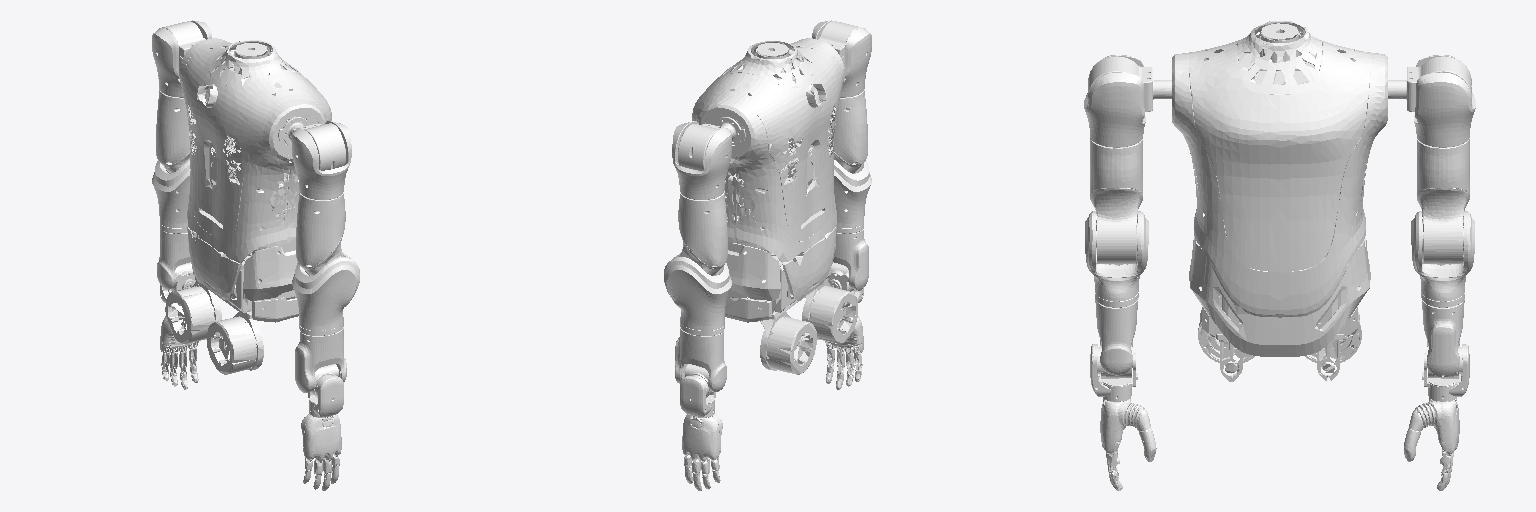
robot.urdf — biped_s46:
<?xml version='1.0' encoding='utf-8'?>
<robot name="biped_s46">
  <mujoco>
    <compiler meshdir="../meshes/" balanceinertia="true" discardvisual="false" />
  </mujoco>
  <link name="base_link">
    <inertial>
      <origin xyz="-0.00761 0.00182 0.21995" rpy="0 0 0" />
      <mass value="26.8206" />
      <inertia ixx="0.93103133" ixy="0.00011763" ixz="-0.07210993" iyy="0.82590532" iyz="6.88e-06" izz="0.27686612" />
    </inertial>
    <visual>
      <origin xyz="0 0 0" rpy="0 0 0" />
      <geometry>
        <mesh filename="../../meshes/torso.STL" />
      </geometry>
      <material name="">
        <color rgba="1 1 1 1" />
      </material>
    </visual>
  </link>
  <link name="zarm_l1_link">
    <inertial>
      <origin xyz="-0.00083 -0.02218 0.00035" rpy="0 0 0" />
      <mass value="0.962" />
      <inertia ixx="0.00225" ixy="-3e-05" ixz="0.0" iyy="0.00099" iyz="-2e-05" izz="0.00227" />
    </inertial>
    <visual>
      <origin xyz="0 0 0" rpy="0 0 0" />
      <geometry>
        <mesh filename="../../meshes/l_arm_pitch.STL" />
      </geometry>
      <material name="">
        <color rgba="1 1 1 1" />
      </material>
    </visual>
  </link>
  <joint name="zarm_l1_joint" type="revolute">
    <origin xyz="-0.017499853 0.29269999999999996 0.445" rpy="0 0 0" />
    <parent link="base_link" />
    <child link="zarm_l1_link" />
    <axis xyz="0 1 0" />
    <limit lower="-3.14159265358979" upper="1.5707963267949" effort="100.0" velocity="41.3433333333333" />
    <dynamic damping="0.2" friction="0.0" />
  </joint>
  <link name="zarm_l2_link">
    <inertial>
      <origin xyz="-0.00791 0.0 -0.04655" rpy="0 0 0" />
      <mass value="0.57" />
      <inertia ixx="0.00163" ixy="0.0" ixz="5e-05" iyy="0.00211" iyz="0.0" izz="0.00122" />
    </inertial>
    <visual>
      <origin xyz="0 0 0" rpy="0 0 0" />
      <geometry>
        <mesh filename="../../meshes/l_arm_roll.STL" />
      </geometry>
      <material name="">
        <color rgba="1 1 1 1" />
      </material>
    </visual>
  </link>
  <joint name="zarm_l2_joint" type="revolute">
    <origin xyz="0 0 0" rpy="0 0 0" />
    <parent link="zarm_l1_link" />
    <child link="zarm_l2_link" />
    <axis xyz="1 0 0" />
    <limit lower="-0.349065850398866" upper="2.0943951023932" effort="50.0" velocity="8.37333333333333" />
    <dynamic damping="0.2" friction="0.0" />
  </joint>
  <link name="zarm_l3_link">
    <inertial>
      <origin xyz="0.00628 0.00107 -0.20878" rpy="0 0 0" />
      <mass value="1.65" />
      <inertia ixx="0.00815" ixy="-4e-05" ixz="0.00085" iyy="0.00828" iyz="0.00014" izz="0.00206" />
    </inertial>
    <visual>
      <origin xyz="0 0 0" rpy="0 0 0" />
      <geometry>
        <mesh filename="../../meshes/l_arm_yaw.STL" />
      </geometry>
      <material name="">
        <color rgba="1 1 1 1" />
      </material>
    </visual>
  </link>
  <joint name="zarm_l3_joint" type="revolute">
    <origin xyz="0 0 0" rpy="0 0 0" />
    <parent link="zarm_l2_link" />
    <child link="zarm_l3_link" />
    <axis xyz="0 0 1" />
    <limit lower="-1.5707963267949" upper="1.5707963267949" effort="39.0" velocity="19.3633333333333" />
    <dynamic damping="0.2" friction="0.0" />
  </joint>
  <link name="zarm_l4_link">
    <inertial>
      <origin xyz="-0.01611 0.00143 -0.04857" rpy="0 0 0" />
      <mass value="0.429" />
      <inertia ixx="0.00135" ixy="0.0" ixz="-0.0001" iyy="0.00114" iyz="0.0" izz="0.00083" />
    </inertial>
    <visual>
      <origin xyz="0 0 0" rpy="0 0 0" />
      <geometry>
        <mesh filename="../../meshes/l_forearm.STL" />
      </geometry>
      <material name="">
        <color rgba="1 1 1 1" />
      </material>
    </visual>
  </link>
  <joint name="zarm_l4_joint" type="revolute">
    <origin xyz="0.0200000000000001 0 -0.2837" rpy="0 0 0" />
    <parent link="zarm_l3_link" />
    <child link="zarm_l4_link" />
    <axis xyz="0 1 0" />
    <limit lower="-2.61799387799149" upper="0.0" effort="50.0" velocity="8.37333333333333" />
    <dynamic damping="0.2" friction="0.0" />
  </joint>
  <link name="zarm_l5_link">
    <inertial>
      <origin xyz="-0.00207 0.00018 -0.05079" rpy="0 0 0" />
      <mass value="0.61" />
      <inertia ixx="0.00107" ixy="0.0" ixz="-4e-05" iyy="0.00146" iyz="0.0" izz="0.00083" />
    </inertial>
    <visual>
      <origin xyz="0 0 0" rpy="0 0 0" />
      <geometry>
        <mesh filename="../../meshes/l_hand_yaw.STL" />
      </geometry>
      <material name="">
        <color rgba="1 1 1 1" />
      </material>
    </visual>
  </link>
  <joint name="zarm_l5_joint" type="revolute">
    <origin xyz="-0.02 0 -0.126000000138651" rpy="0 0 0" />
    <parent link="zarm_l4_link" />
    <child link="zarm_l5_link" />
    <axis xyz="0 0 1" />
    <limit lower="-1.5707963267949" upper="1.5707963267949" effort="12.0" velocity="7.32666666666667" />
    <dynamic damping="0.2" friction="0.0" />
  </joint>
  <link name="zarm_l6_link">
    <inertial>
      <origin xyz="-0.00111 0.00335 -0.01335" rpy="0 0 0" />
      <mass value="0.331" />
      <inertia ixx="0.00022" ixy="0.0" ixz="0.0" iyy="0.00027" iyz="0.0" izz="0.00028" />
    </inertial>
    <visual>
      <origin xyz="0 0 0" rpy="0 0 0" />
      <geometry>
        <mesh filename="../../meshes/l_hand_roll.STL" />
      </geometry>
      <material name="">
        <color rgba="1 1 1 1" />
      </material>
    </visual>
  </link>
  <joint name="zarm_l6_joint" type="revolute">
    <origin xyz="0 0 -0.107499999861353" rpy="0 0 0" />
    <parent link="zarm_l5_link" />
    <child link="zarm_l6_link" />
    <axis xyz="1 0 0" />
    <limit lower="-1.30899693899575" upper="0.698131700797732" effort="12.0" velocity="7.32666666666667" />
    <dynamic damping="0.2" friction="0.0" />
  </joint>
  <link name="zarm_l7_link">
    <inertial>
      <origin xyz="0.00186 0.01014 -0.09044" rpy="0 0 0" />
      <mass value="0.64" />
      <inertia ixx="0.00071" ixy="1e-05" ixz="2e-05" iyy="0.0007" iyz="-4e-05" izz="0.00012" />
    </inertial>
    <visual>
      <origin xyz="0 0 0" rpy="0 0 0" />
      <geometry>
        <mesh filename="../../meshes/l_hand_pitch.STL" />
      </geometry>
      <material name="">
        <color rgba="1 1 1 1" />
      </material>
    </visual>
  </link>
  <joint name="zarm_l7_joint" type="revolute">
    <origin xyz="0 0 -0.0209999999999992" rpy="0 0 0" />
    <parent link="zarm_l6_link" />
    <child link="zarm_l7_link" />
    <axis xyz="0 1 0" />
    <limit lower="-0.698131700797732" upper="0.698131700797732" effort="12.0" velocity="7.32666666666667" />
    <dynamic damping="0.2" friction="0.0" />
  </joint>
  <link name="zarm_l7_end_effector">
    <collision>
      <origin rpy="0 0 0" xyz="0 0 0" />
      <geometry>
        <sphere radius="0.005" />
      </geometry>
    </collision>
  </link>
  <joint name="zarm_l7_end_effector_joint" type="fixed">
    <origin xyz="0 -0.03 -0.17" rpy="0 0 0" />
    <parent link="zarm_l7_link" />
    <child link="zarm_l7_end_effector" />
  </joint>
  <link name="zarm_r1_link">
    <inertial>
      <origin xyz="-0.00083 0.02218 0.00035" rpy="0 0 0" />
      <mass value="0.962" />
      <inertia ixx="0.00225" ixy="3e-05" ixz="0.0" iyy="0.00099" iyz="2e-05" izz="0.00227" />
    </inertial>
    <visual>
      <origin xyz="0 0 0" rpy="0 0 0" />
      <geometry>
        <mesh filename="../../meshes/r_arm_pitch.STL" />
      </geometry>
      <material name="">
        <color rgba="1 1 1 1" />
      </material>
    </visual>
  </link>
  <joint name="zarm_r1_joint" type="revolute">
    <origin xyz="-0.017499853 -0.29269999999999996 0.445" rpy="0 0 0" />
    <parent link="base_link" />
    <child link="zarm_r1_link" />
    <axis xyz="0 1 0" />
    <limit lower="-3.14159265358979" upper="1.5707963267949" effort="100.0" velocity="41.3433333333333" />
    <dynamic damping="0.2" friction="0.0" />
  </joint>
  <link name="zarm_r2_link">
    <inertial>
      <origin xyz="-0.00791 0.0 -0.04655" rpy="0 0 0" />
      <mass value="0.57" />
      <inertia ixx="0.00163" ixy="0.0" ixz="5e-05" iyy="0.00211" iyz="0.0" izz="0.00122" />
    </inertial>
    <visual>
      <origin xyz="0 0 0" rpy="0 0 0" />
      <geometry>
        <mesh filename="../../meshes/r_arm_roll.STL" />
      </geometry>
      <material name="">
        <color rgba="1 1 1 1" />
      </material>
    </visual>
  </link>
  <joint name="zarm_r2_joint" type="revolute">
    <origin xyz="0 0 0" rpy="0 0 0" />
    <parent link="zarm_r1_link" />
    <child link="zarm_r2_link" />
    <axis xyz="1 0 0" />
    <limit lower="-2.0943951023932" upper="0.349065850398866" effort="50.0" velocity="8.37333333333333" />
    <dynamic damping="0.2" friction="0.0" />
  </joint>
  <link name="zarm_r3_link">
    <inertial>
      <origin xyz="0.00628 -0.00107 -0.20878" rpy="0 0 0" />
      <mass value="1.65" />
      <inertia ixx="0.00815" ixy="4e-05" ixz="0.00085" iyy="0.00828" iyz="-0.00014" izz="0.00206" />
    </inertial>
    <visual>
      <origin xyz="0 0 0" rpy="0 0 0" />
      <geometry>
        <mesh filename="../../meshes/r_arm_yaw.STL" />
      </geometry>
      <material name="">
        <color rgba="1 1 1 1" />
      </material>
    </visual>
  </link>
  <joint name="zarm_r3_joint" type="revolute">
    <origin xyz="0 0 0" rpy="0 0 0" />
    <parent link="zarm_r2_link" />
    <child link="zarm_r3_link" />
    <axis xyz="0 0 1" />
    <limit lower="-1.5707963267949" upper="1.5707963267949" effort="39.0" velocity="18.84" />
    <dynamic damping="0.2" friction="0.0" />
  </joint>
  <link name="zarm_r4_link">
    <inertial>
      <origin xyz="-0.01611 -0.00143 -0.04857" rpy="0 0 0" />
      <mass value="0.429" />
      <inertia ixx="0.00135" ixy="0.0" ixz="-0.0001" iyy="0.00114" iyz="0.0" izz="0.00083" />
    </inertial>
    <visual>
      <origin xyz="0 0 0" rpy="0 0 0" />
      <geometry>
        <mesh filename="../../meshes/r_forearm.STL" />
      </geometry>
      <material name="">
        <color rgba="1 1 1 1" />
      </material>
    </visual>
  </link>
  <joint name="zarm_r4_joint" type="revolute">
    <origin xyz="0.0199999999999998 0 -0.2837" rpy="0 0 0" />
    <parent link="zarm_r3_link" />
    <child link="zarm_r4_link" />
    <axis xyz="0 1 0" />
    <limit lower="-2.61799387799149" upper="0.0" effort="50.0" velocity="8.37333333333333" />
    <dynamic damping="0.2" friction="0.0" />
  </joint>
  <link name="zarm_r5_link">
    <inertial>
      <origin xyz="-0.00207 -0.00018 -0.05079" rpy="0 0 0" />
      <mass value="0.61" />
      <inertia ixx="0.00107" ixy="0.0" ixz="-4e-05" iyy="0.00146" iyz="0.0" izz="0.00083" />
    </inertial>
    <visual>
      <origin xyz="0 0 0" rpy="0 0 0" />
      <geometry>
        <mesh filename="../../meshes/r_hand_yaw.STL" />
      </geometry>
      <material name="">
        <color rgba="1 1 1 1" />
      </material>
    </visual>
  </link>
  <joint name="zarm_r5_joint" type="revolute">
    <origin xyz="-0.0199999999999997 0 -0.126000000138651" rpy="0 0 0" />
    <parent link="zarm_r4_link" />
    <child link="zarm_r5_link" />
    <axis xyz="0 0 1" />
    <limit lower="-1.5707963267949" upper="1.5707963267949" effort="12.0" velocity="7.32666666666667" />
    <dynamic damping="0.2" friction="0.0" />
  </joint>
  <link name="zarm_r6_link">
    <inertial>
      <origin xyz="-0.00111 -0.00335 -0.01335" rpy="0 0 0" />
      <mass value="0.331" />
      <inertia ixx="0.00022" ixy="0.0" ixz="0.0" iyy="0.00027" iyz="0.0" izz="0.00028" />
    </inertial>
    <visual>
      <origin xyz="0 0 0" rpy="0 0 0" />
      <geometry>
        <mesh filename="../../meshes/r_hand_roll.STL" />
      </geometry>
      <material name="">
        <color rgba="1 1 1 1" />
      </material>
    </visual>
  </link>
  <joint name="zarm_r6_joint" type="revolute">
    <origin xyz="0 0 -0.107499999861352" rpy="0 0 0" />
    <parent link="zarm_r5_link" />
    <child link="zarm_r6_link" />
    <axis xyz="1 0 0" />
    <limit lower="-0.698131700797732" upper="1.30899693899575" effort="12.0" velocity="7.32666666666667" />
    <dynamic damping="0.2" friction="0.0" />
  </joint>
  <link name="zarm_r7_link">
    <inertial>
      <origin xyz="0.00186 -0.01014 -0.09044" rpy="0 0 0" />
      <mass value="0.64" />
      <inertia ixx="0.00069" ixy="-1e-05" ixz="2e-05" iyy="0.00068" iyz="5e-05" izz="0.00012" />
    </inertial>
    <visual>
      <origin xyz="0 0 0" rpy="0 0 0" />
      <geometry>
        <mesh filename="../../meshes/r_hand_pitch.STL" />
      </geometry>
      <material name="">
        <color rgba="1 1 1 1" />
      </material>
    </visual>
  </link>
  <joint name="zarm_r7_joint" type="revolute">
    <origin xyz="0 0 -0.0210000000000031" rpy="0 0 0" />
    <parent link="zarm_r6_link" />
    <child link="zarm_r7_link" />
    <axis xyz="0 1 0" />
    <limit lower="-0.698131700797732" upper="0.698131700797732" effort="12.0" velocity="7.32666666666667" />
    <dynamic damping="0.2" friction="0.0" />
  </joint>
  <link name="zarm_r7_end_effector">
    <collision>
      <origin rpy="0 0 0" xyz="0 0 0" />
      <geometry>
        <sphere radius="0.005" />
      </geometry>
    </collision>
  </link>
  <joint name="zarm_r7_end_effector_joint" type="fixed">
    <origin xyz="0 0.03 -0.17" rpy="0 0 0" />
    <parent link="zarm_r7_link" />
    <child link="zarm_r7_end_effector" />
  </joint>
  </robot>

--- Render facts (derived) ---
The picture shows the robot from 3 angles, left to right: view 1: azimuth 30°, elevation 25°; view 2: azimuth 150°, elevation 25°; view 3: azimuth 270°, elevation 25°; orthographic projection.
Robot: biped_s46 — 17 links, 16 joints (14 revolute, 2 fixed); root link base_link; default pose: every joint at zero.
Links seen in each view (by area): view 1: base_link, zarm_r4_link, zarm_r7_link, zarm_r3_link, zarm_r2_link, zarm_l3_link, zarm_r5_link, zarm_l4_link, zarm_l2_link, zarm_r1_link, zarm_l7_link, zarm_l5_link (+1 smaller); view 2: base_link, zarm_l4_link, zarm_l7_link, zarm_l3_link, zarm_l2_link, zarm_r3_link, zarm_l5_link, zarm_r4_link, zarm_r2_link, zarm_l1_link, zarm_r7_link, zarm_r5_link (+1 smaller); view 3: base_link, zarm_r3_link, zarm_l3_link, zarm_l2_link, zarm_r2_link, zarm_l7_link, zarm_r7_link, zarm_l4_link, zarm_r4_link, zarm_l5_link, zarm_r5_link, zarm_l1_link (+1 smaller).
Link boxes in pixels (box(x1,y1,x2,y2)): base_link: box(165, 38, 331, 374); zarm_r4_link: box(292, 257, 359, 335); zarm_r7_link: box(301, 376, 343, 490); zarm_r3_link: box(296, 191, 350, 275); zarm_r2_link: box(292, 121, 351, 199); zarm_l3_link: box(156, 89, 189, 173); zarm_r5_link: box(295, 327, 346, 392); zarm_l4_link: box(152, 160, 189, 233); zarm_l2_link: box(152, 20, 211, 97); zarm_r1_link: box(278, 117, 345, 170); zarm_l7_link: box(160, 279, 198, 389); zarm_l5_link: box(157, 229, 190, 289); base_link: box(692, 38, 857, 374); zarm_l4_link: box(664, 257, 731, 335); zarm_l7_link: box(680, 376, 722, 490); zarm_l3_link: box(673, 191, 727, 275); zarm_l2_link: box(672, 121, 731, 199); zarm_r3_link: box(834, 89, 867, 173); zarm_l5_link: box(675, 327, 726, 391); zarm_r4_link: box(834, 160, 871, 233); zarm_r2_link: box(812, 20, 871, 97); zarm_l1_link: box(678, 117, 745, 170); zarm_r7_link: box(825, 279, 863, 389); zarm_r5_link: box(833, 229, 868, 290); base_link: box(1172, 21, 1387, 381); zarm_r3_link: box(1090, 138, 1142, 263); zarm_l3_link: box(1417, 138, 1469, 263); zarm_l2_link: box(1414, 55, 1475, 147); zarm_r2_link: box(1084, 55, 1145, 147); zarm_l7_link: box(1404, 344, 1469, 490); zarm_r7_link: box(1090, 344, 1156, 490); zarm_l4_link: box(1411, 211, 1474, 307); zarm_r4_link: box(1085, 211, 1148, 307); zarm_l5_link: box(1422, 299, 1464, 376); zarm_r5_link: box(1095, 299, 1137, 375); zarm_l1_link: box(1388, 56, 1471, 111).
Bounding box of the posed robot: 0.2827 × 0.7029 × 0.9051 m (x, y, z).
15 mesh visuals loaded from 15 distinct referenced files (15 binary STL).